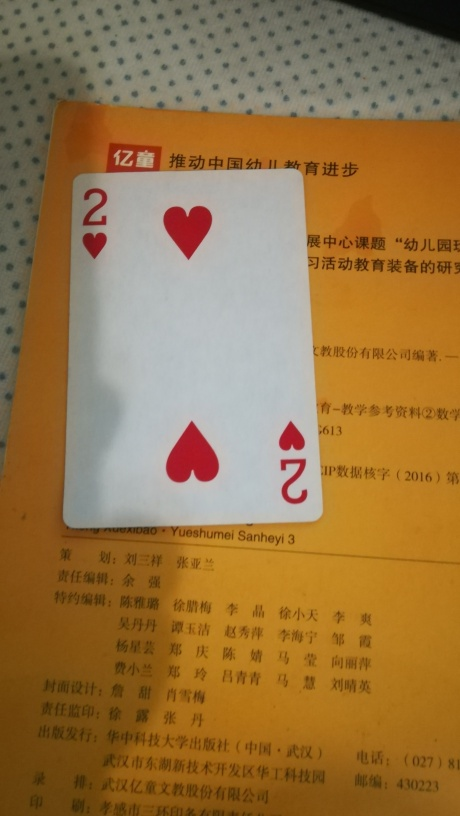hx 2: (58, 171, 325, 529)
